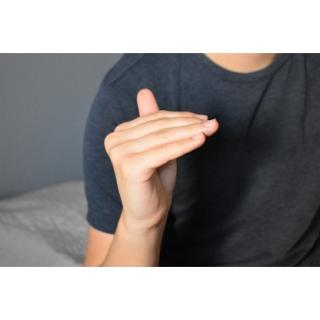KHAA: (99, 82, 223, 237)
